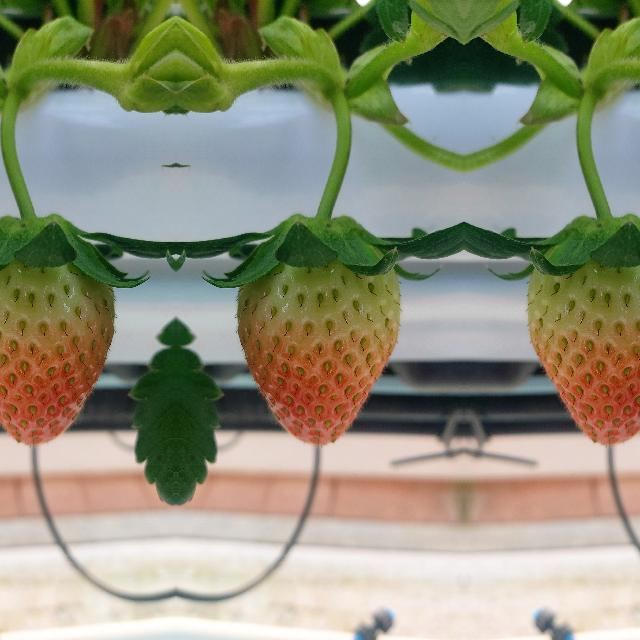Health_75: (234, 243, 400, 447), (0, 243, 116, 447), (525, 243, 640, 447)
